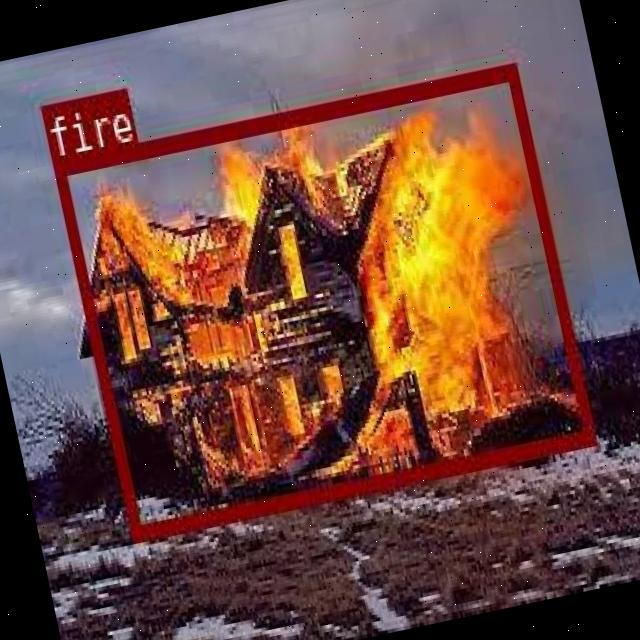fire: (51, 62, 592, 537)
